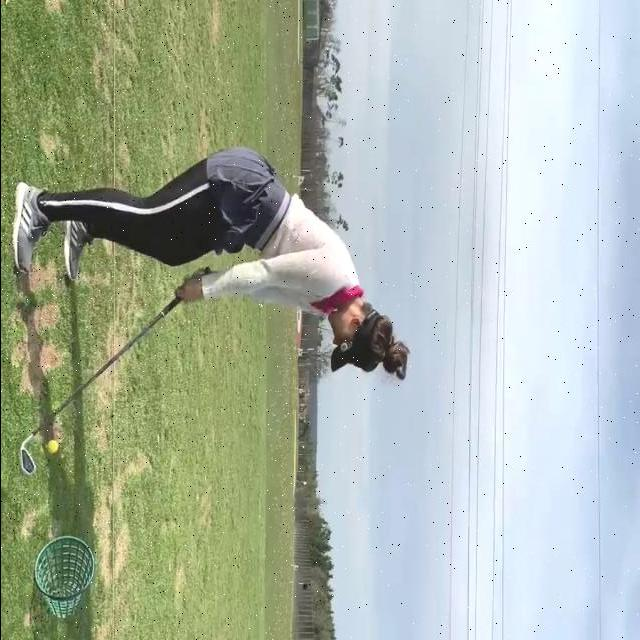ClubHandle: (19, 264, 211, 476)
ClubHead: (18, 447, 35, 476)
GolfBall: (46, 440, 58, 454)
